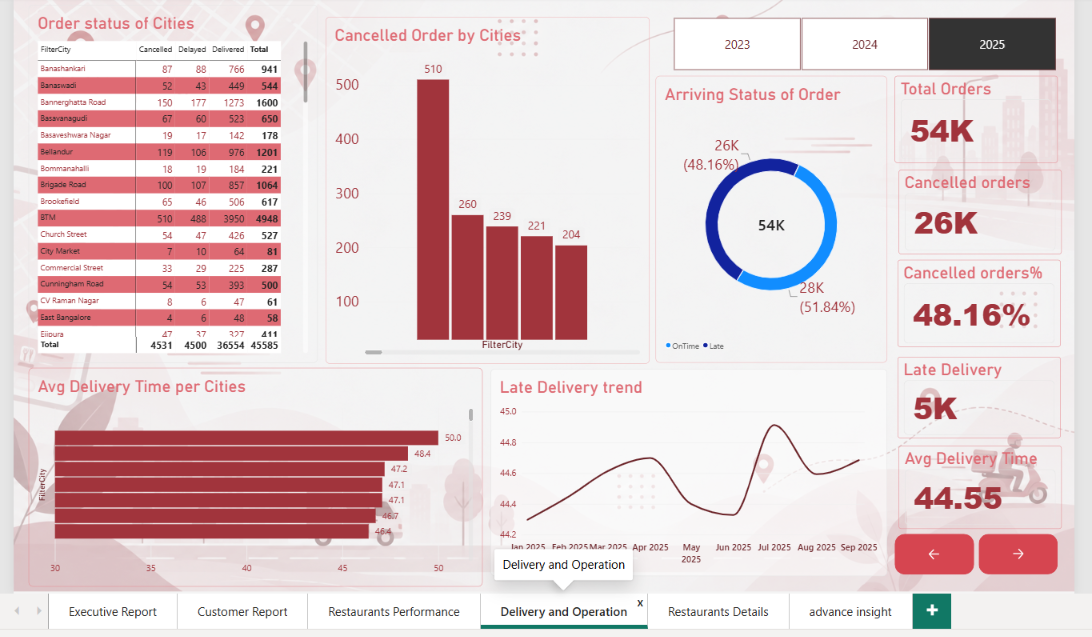

Layout of this report page (visuals, bound fields, positions):
{"tool":"powerbi","page":{"name":"Delivery and Operation ","canvas":[1920,1080],"ordinal":3},"visuals":[{"type":"cardVisual","title":"Avg Delivery Time","fields":{"Data":["Orders.AvgDeltime"]},"box":[1601.7,811.7,295,150],"z":0},{"type":"cardVisual","title":"Cancelled orders","fields":{"Data":["Orders.LateOrder"]},"box":[1601.1,313.3,295,152.5],"z":1000},{"type":"cardVisual","title":"Cancelled orders%","fields":{"Data":["Orders.LateDelivery%"]},"box":[1598.9,476.7,295,157.5],"z":2000},{"type":"cardVisual","title":"Late Delivery","fields":{"Data":["Orders.CancelledOrder"]},"box":[1598.9,651.1,295,147.5],"z":3000},{"type":"donutChart","title":"Arriving Status of Order ","fields":{"Category":["Orders.DeliveryStatus"],"Y":["Orders.TotalOrder"]},"box":[1161.7,143.3,419.3,519.5],"z":4000},{"type":"actionButton","box":[1593.8,971.2,144,74],"z":5000},{"type":"lineChart","title":"Late Delivery trend ","fields":{"Category":["DateTable.Date.Variation.Date Hierarchy.Year","DateTable.Date.Variation.Date Hierarchy.Month"],"Y":["Orders.AvgDeltime"]},"box":[862.5,672.5,717.5,375],"z":6000},{"type":"columnChart","title":"Cancelled Order by Cities","fields":{"Category":["Customers.FilterCity"],"Y":["Orders.CancelledOrder"]},"box":[564,36,586,628],"z":7000},{"type":"pivotTable","title":"Order status of Cities","fields":{"Columns":["Orders.OrderStatus"],"Rows":["Customers.FilterCity"],"Values":["Orders.TotalOrder"]},"box":[27.1,14.5,523,647.9],"z":8000},{"type":"clusteredBarChart","title":"Avg Delivery Time per Cities","fields":{"Category":["Customers.FilterCity"],"Y":["Orders.AvgDeltime"]},"box":[27.1,671.4,821.6,396.3],"z":9000},{"type":"slicer","fields":{"Values":["DateTable.Year"]},"box":[1174,36,730,98],"z":10000},{"type":"actionButton","box":[1746.6,971.5,143.3,73.3],"z":11000},{"type":"cardVisual","title":"Total Orders ","fields":{"Data":["Orders.TotalOrder"]},"box":[1595,143.3,295,157.5],"z":12000}]}

Visuals, with their boxes on the page's 1920x1080 design canvas (x1, y1, x2, y2). These are canvas units, not pixel positions in the 1092x637 screenshot, which may show the page scaled, cropped or inside an application window:
"Avg Delivery Time" cardVisual: (1602, 812, 1897, 962)
"Cancelled orders" cardVisual: (1601, 313, 1896, 466)
"Cancelled orders%" cardVisual: (1599, 477, 1894, 634)
"Late Delivery" cardVisual: (1599, 651, 1894, 799)
"Arriving Status of Order " donutChart: (1162, 143, 1581, 663)
actionButton: (1594, 971, 1738, 1045)
"Late Delivery trend " lineChart: (862, 672, 1580, 1048)
"Cancelled Order by Cities" columnChart: (564, 36, 1150, 664)
"Order status of Cities" pivotTable: (27, 14, 550, 662)
"Avg Delivery Time per Cities" clusteredBarChart: (27, 671, 849, 1068)
slicer - DateTable.Year: (1174, 36, 1904, 134)
actionButton: (1747, 972, 1890, 1045)
"Total Orders " cardVisual: (1595, 143, 1890, 301)
